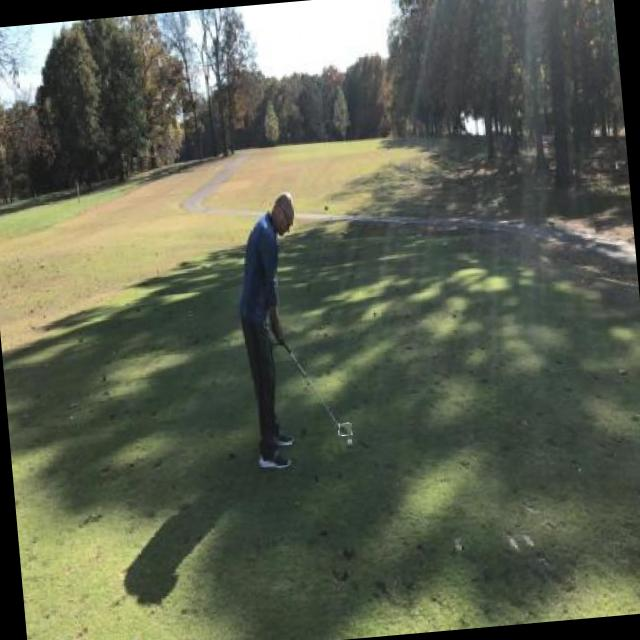club head: (338, 422, 352, 436)
